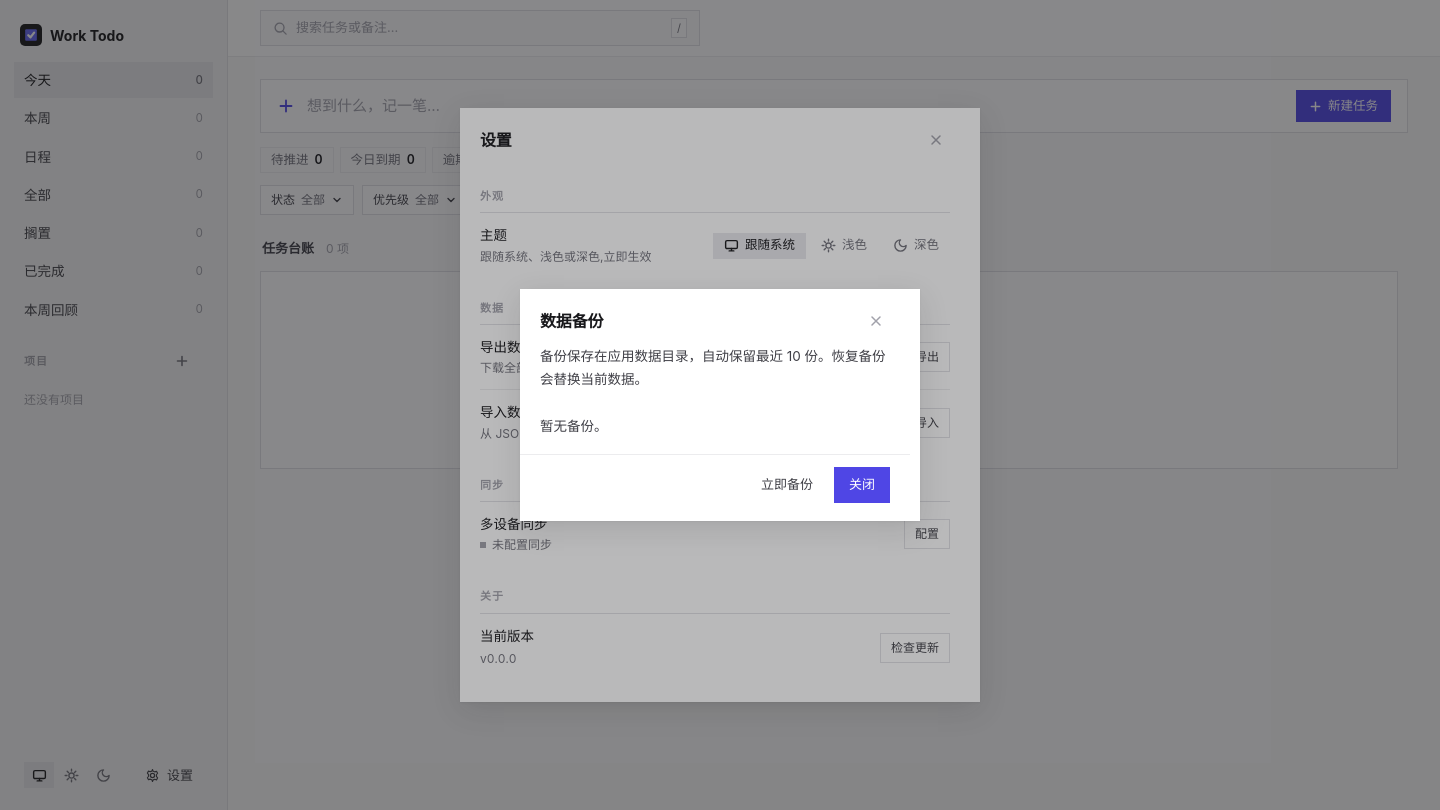
Scenario: backup modal (browser mode) › close button hides the modal
This screenshot has width=1440, height=810.
Step 1. Click the button with id "btn-close-backup" → (876, 321), box x1=862 y1=307 x2=890 y2=335
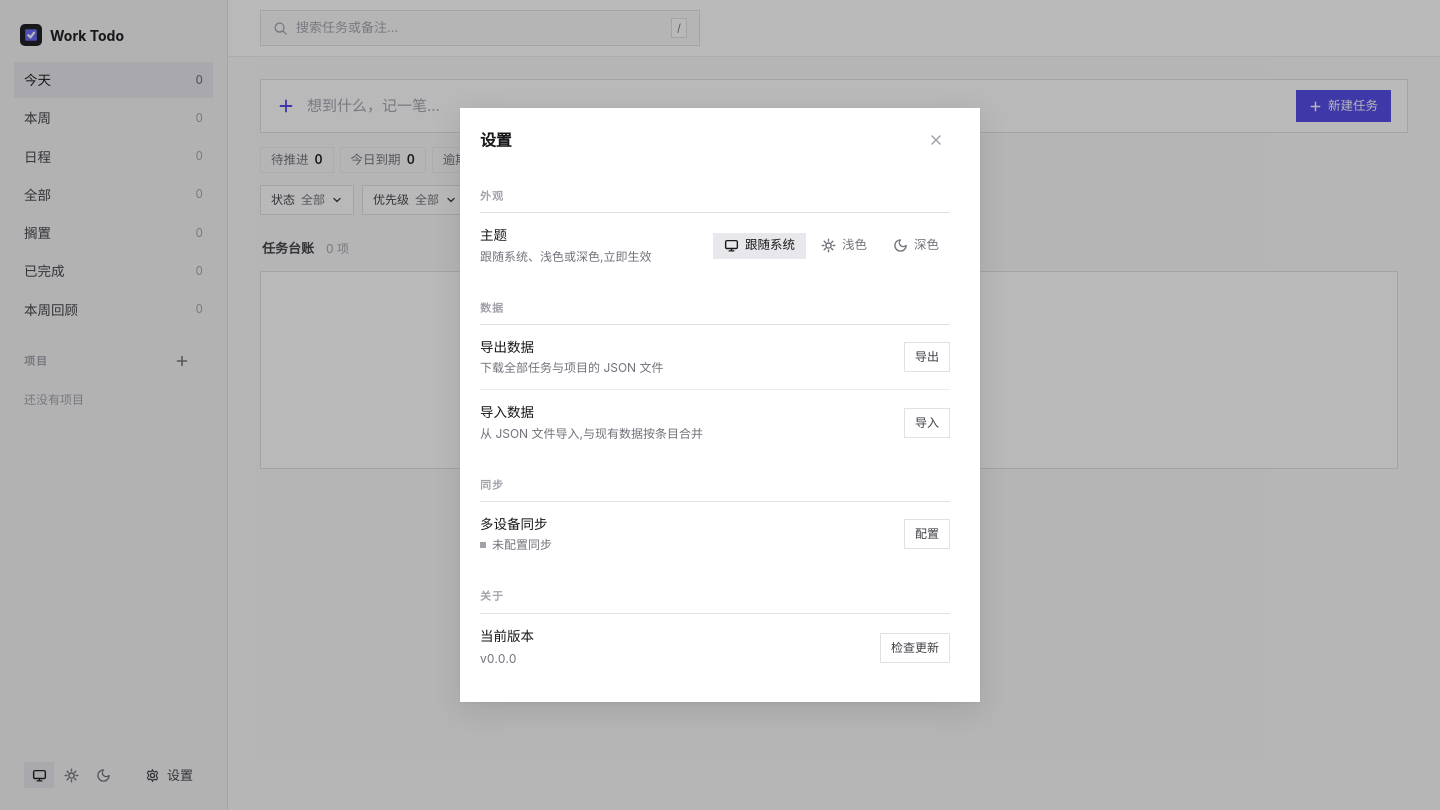
Result: the element with id "backup-backdrop" is gone
